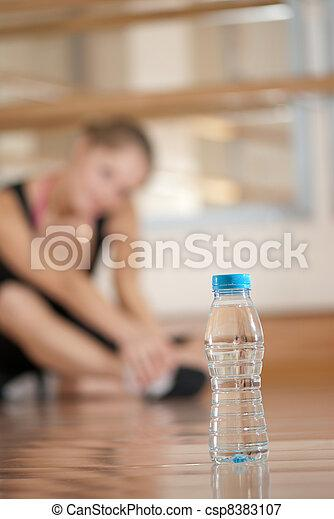bottle: (196, 266, 278, 472)
